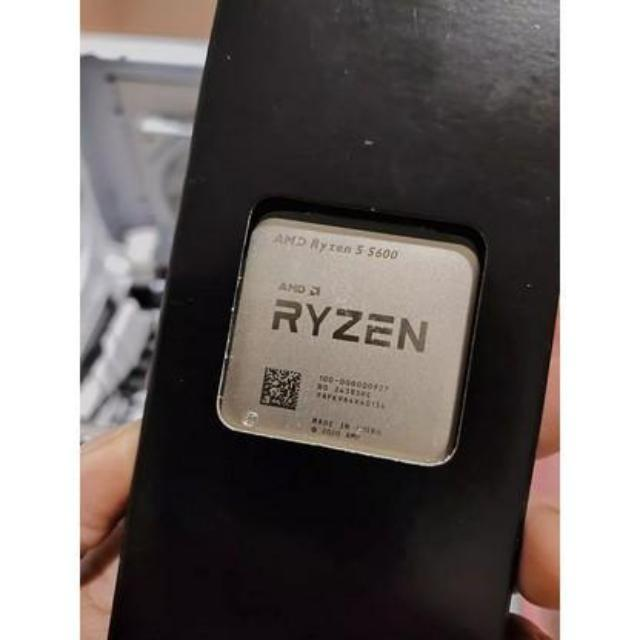CPU: (206, 215, 482, 468)
